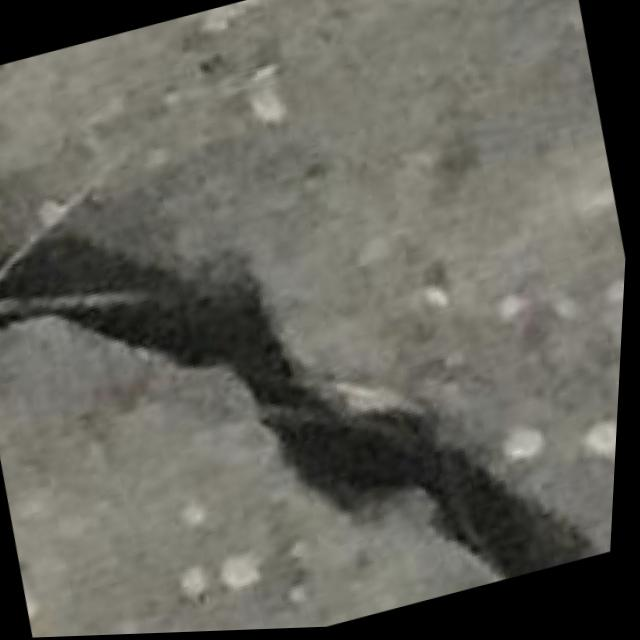Crack: (0, 85, 636, 640)
